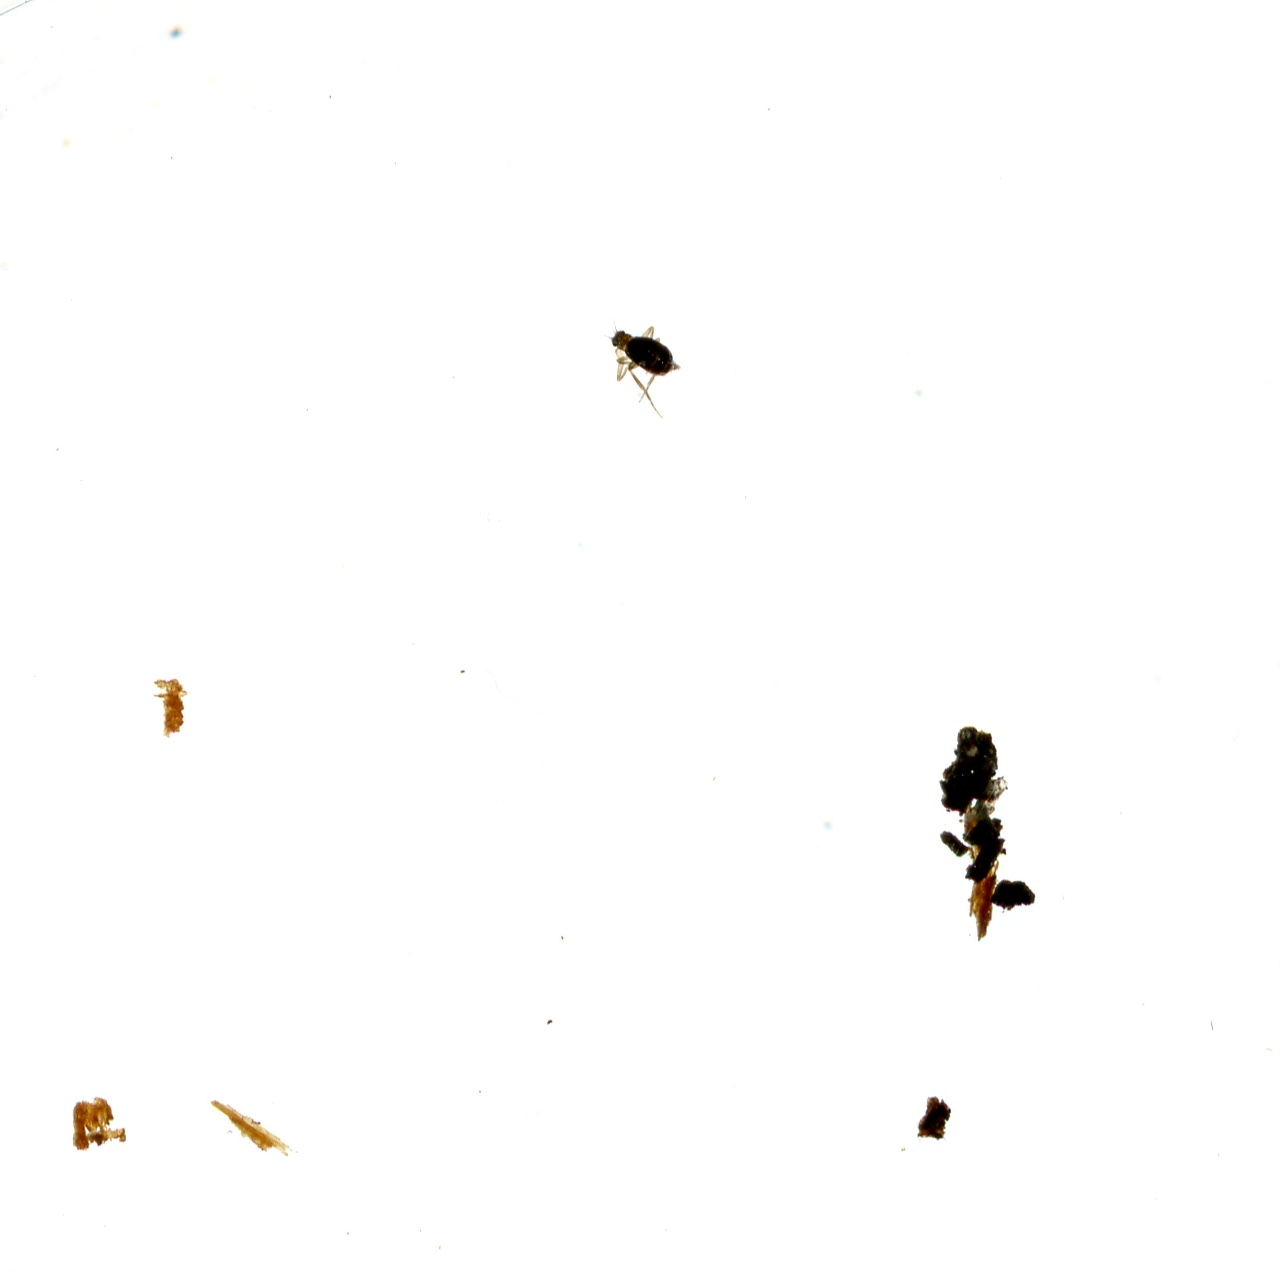arthropod: (594, 313, 685, 421)
